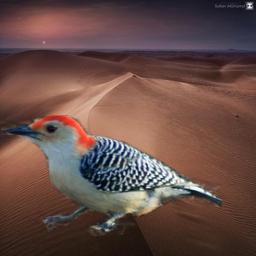Woodpecker: (1, 115, 222, 236)
